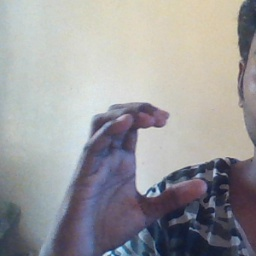C: (83, 98, 214, 215)
